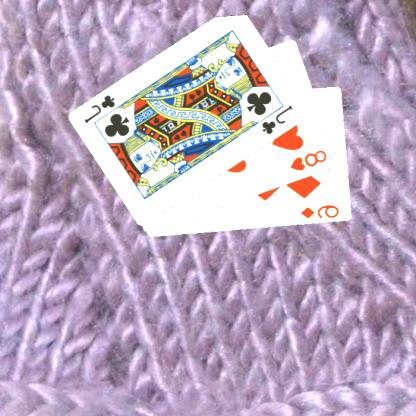8H: (290, 148, 330, 172)
9D: (300, 203, 342, 220)
JC: (83, 92, 119, 126), (261, 102, 296, 136)
